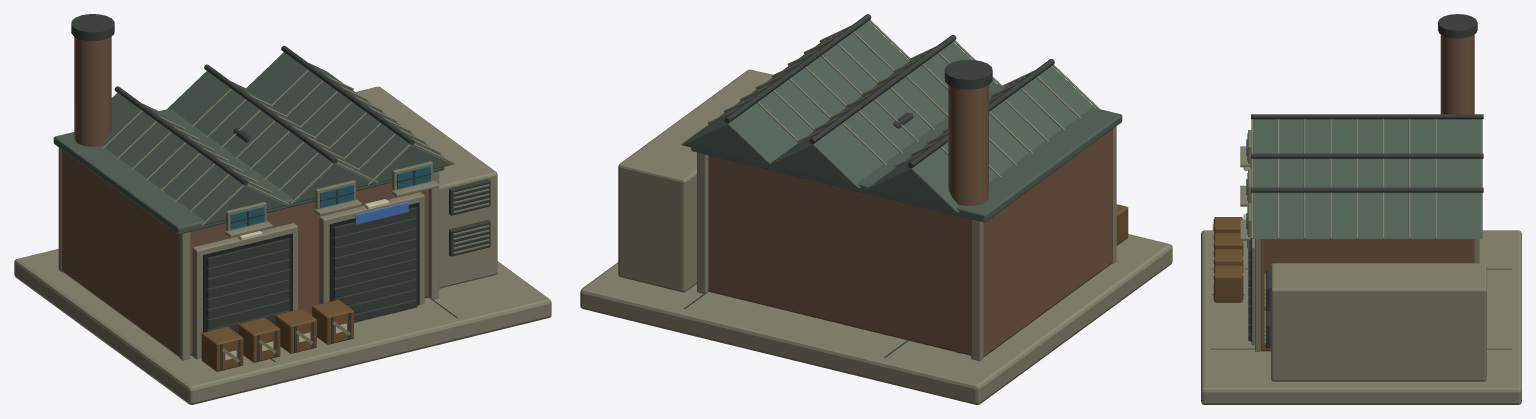
The model's file is warfactory.glb.
3 renders of one model, left to right at view 1: azimuth 30°, elevation 25°; view 2: azimuth 150°, elevation 25°; view 3: azimuth 270°, elevation 25°, orthographic. The views are drawn at different scales.
Visible parts, largest first — view 1: Concrete, RoofMetal, Masonry, Steel, EdgeSteel, Timber, Tracks, Optics, TeamColor, Markings; view 2: Masonry, Concrete, RoofMetal, Steel, EdgeSteel; view 3: Concrete, RoofMetal, Masonry, Steel, EdgeSteel, Timber.
Part boxes in pixels (x1,y1,x2,y2): Concrete: (14, 86, 551, 404); RoofMetal: (53, 52, 453, 234); Masonry: (62, 37, 428, 356); Steel: (71, 14, 490, 370); EdgeSteel: (102, 70, 489, 362); Timber: (201, 300, 353, 371); Tracks: (203, 202, 419, 332); Optics: (230, 166, 430, 229); TeamColor: (355, 202, 408, 224); Markings: (225, 199, 388, 360); Masonry: (708, 85, 1112, 357); Concrete: (580, 69, 1172, 404); RoofMetal: (681, 21, 1122, 222); Steel: (684, 14, 1054, 357); EdgeSteel: (707, 19, 1099, 176); Concrete: (1201, 146, 1521, 404); RoofMetal: (1253, 119, 1482, 238); Masonry: (1260, 34, 1474, 351); Steel: (1211, 14, 1511, 349); EdgeSteel: (1212, 119, 1436, 344); Timber: (1214, 217, 1242, 302).
Bounding box in the file's own units: 6.5 × 4.61 × 5.5.
